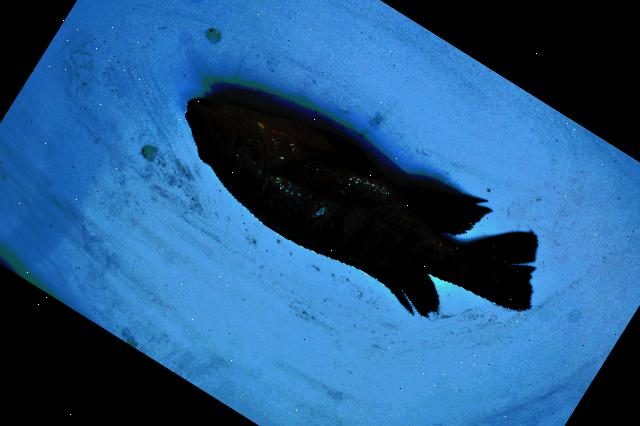Columnaris Disease: (185, 97, 537, 315)
